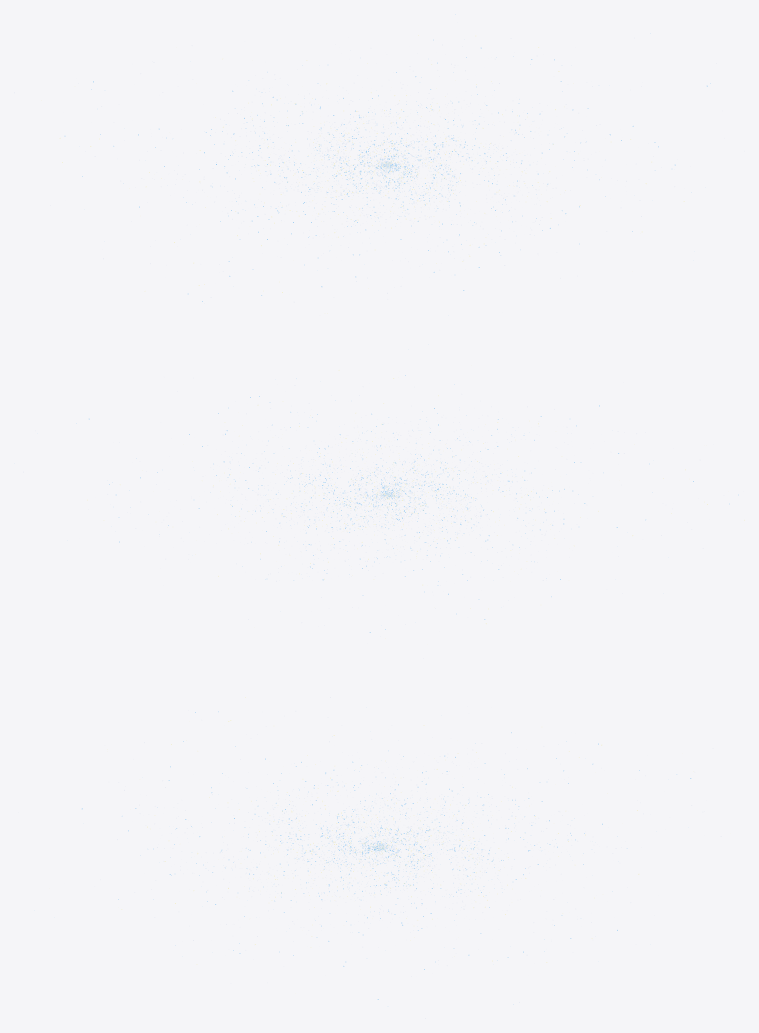
The model's file is galaxy.glb.
3 views of the same model, one above another, from view 1: azimuth 30°, elevation 25°; view 2: azimuth 150°, elevation 25°; view 3: azimuth 270°, elevation 25° (orthographic). The views are drawn at different scales.
Bounding box in the file's own units: 261 × 15.39 × 244.
